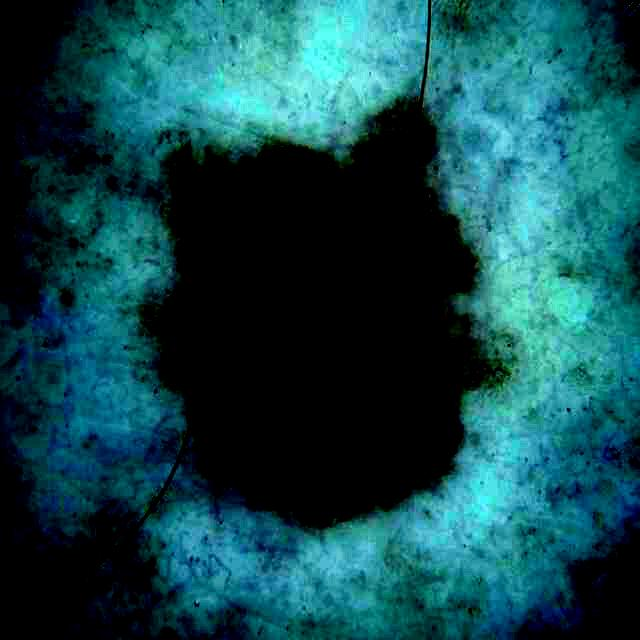MEL: (188, 137, 470, 521)
